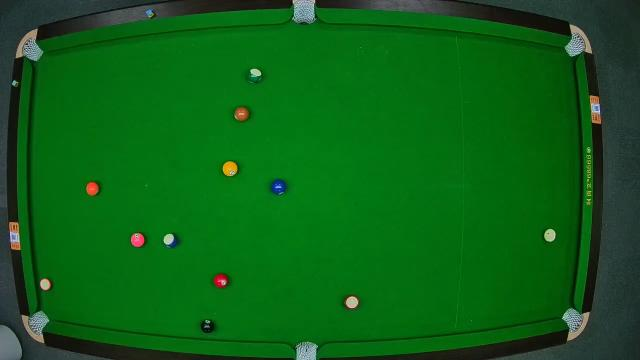bag1: (21, 40, 41, 61)
bag2: (292, 0, 316, 26)
bag3: (565, 34, 587, 56)
bag4: (28, 310, 50, 334)
bag5: (294, 338, 318, 360)
bag6: (564, 308, 584, 328)
ball0: (544, 228, 556, 243)
ball1: (222, 160, 238, 178)
ball10: (164, 234, 178, 248)
ball11: (344, 295, 361, 311)
ball12: (40, 278, 52, 290)
ball14: (247, 68, 263, 84)
ball2: (272, 178, 286, 195)
ball3: (214, 274, 228, 288)
ball4: (130, 232, 146, 248)
ball5: (85, 181, 98, 197)
ball7: (234, 106, 250, 121)
ball8: (200, 318, 216, 334)
